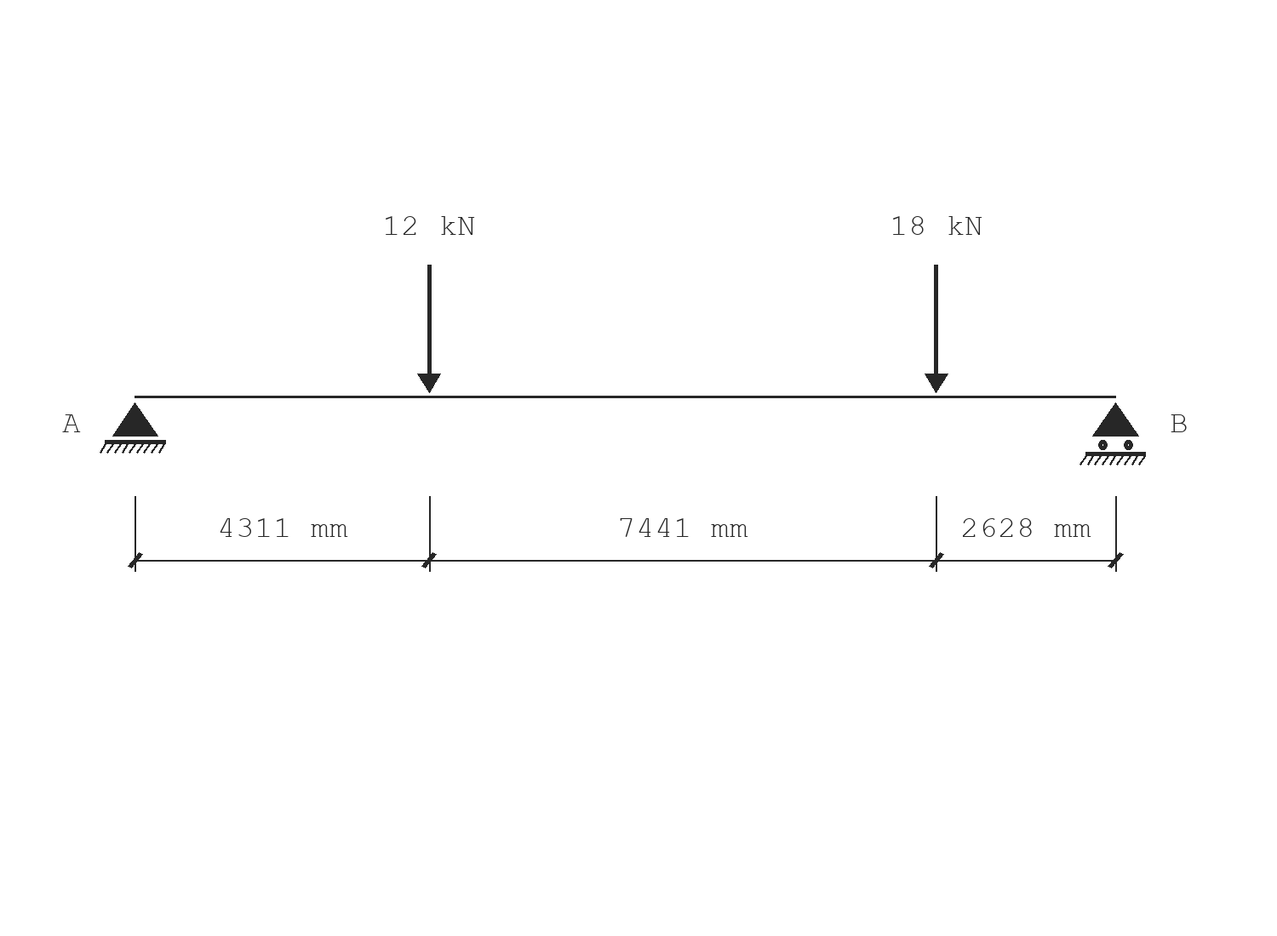pin_support: (100, 402, 166, 454)
point_load: (417, 265, 441, 393), (925, 265, 948, 393)
roller_support: (1079, 402, 1146, 465)
